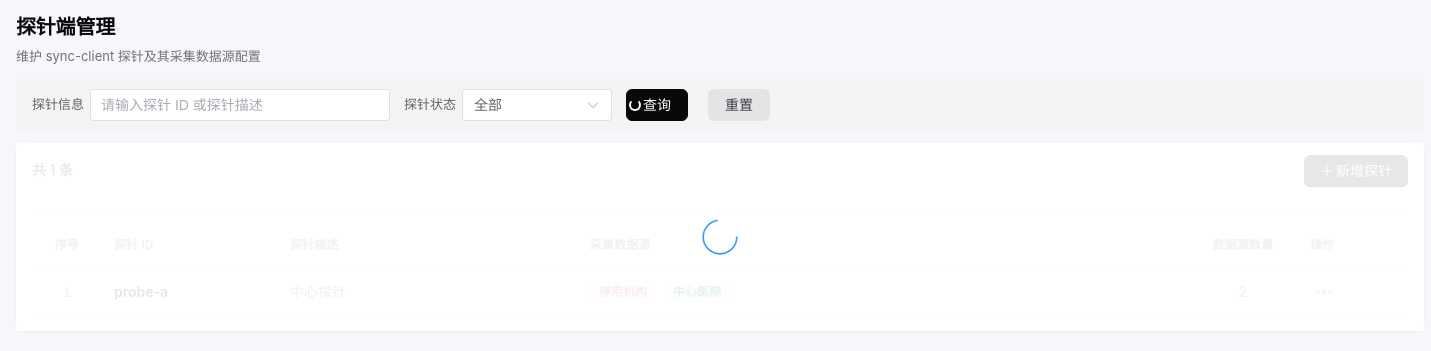
Test: 列表加载失败提示与重试（CCFG-UI-012/034） › 已有成功结果后失败：旧结果保留、失败提示出现
Click the button "查询" at (657, 104), box x1=626 y1=88 x2=688 y2=120
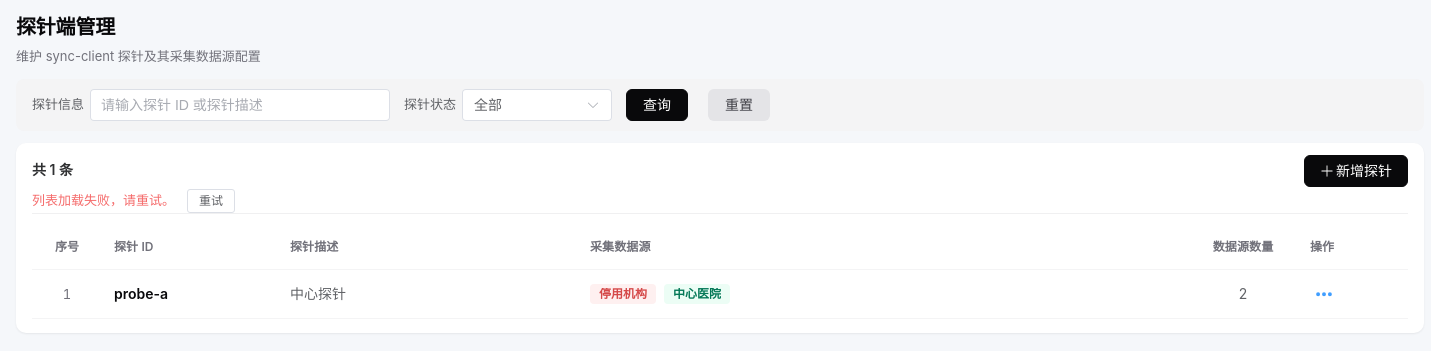
Expected: the text "probe-a" is shown, x1=114 y1=282 x2=168 y2=305
Expected: the message "列表加载失败，请重试。 重试" is shown, x1=32 y1=188 x2=235 y2=212
Expected: the message with class "cc-load-error" shows "列表加载失败，请重试。", x1=32 y1=192 x2=175 y2=208
